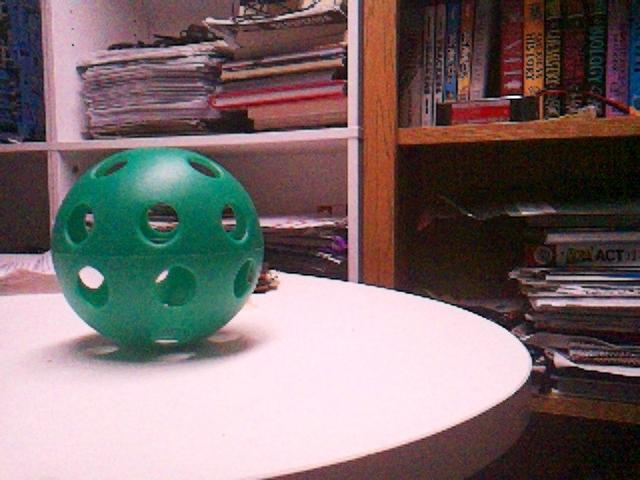Green: (51, 147, 264, 350)
